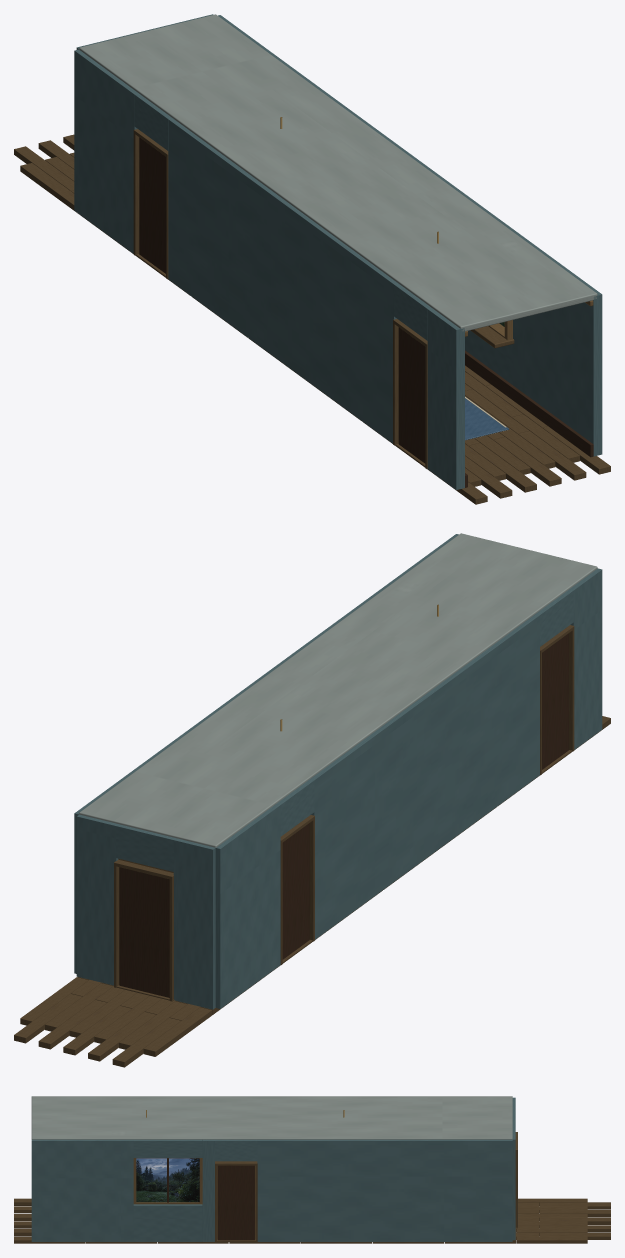
The model's file is hallway.glb.
3 views of the same model, one above another, from view 1: azimuth 30°, elevation 25°; view 2: azimuth 150°, elevation 25°; view 3: azimuth 270°, elevation 25° (orthographic). The views are drawn at different scales.
Visible parts, largest first — view 1: Corridor ceiling, Integrated corridor wall.002, Integrated corridor wall.005, Integrated corridor wall.004, Integrated corridor wall, Recessed unmarked door leaf, Recessed unmarked door leaf.002, Oak skirting between openings.003, Integrated corridor wall.007, Integrated corridor wall.003, Integrated corridor wall.001, Long woven corridor runner (+13 smaller); view 2: Corridor ceiling, Integrated corridor wall.002, Integrated corridor wall.004, Far wall beside recessed doorway, Far wall beside recessed doorway.001, Recessed unmarked door leaf.003, Integrated corridor wall, Recessed unmarked door leaf.002, Recessed unmarked door leaf, Far wall above doorway, Integrated corridor wall.003, Integrated corridor wall.001 (+15 smaller); view 3: Integrated corridor wall.010, Corridor ceiling, Integrated corridor wall.005, Recessed unmarked door leaf.001, Rainy garden through hallway, Integrated corridor wall.007, Integrated corridor wall.008, Integrated corridor wall.006, Integrated corridor wall.009, Lengthwise oak floorboard.087, Far wall beside recessed doorway.001, Lengthwise oak floorboard.079 (+12 smaller).
Part boxes in pixels (x1,y1,x2,y2): Corridor ceiling: [79, 14, 597, 331]; Integrated corridor wall.002: [168, 118, 397, 443]; Integrated corridor wall.005: [512, 235, 602, 456]; Integrated corridor wall.004: [74, 49, 138, 253]; Integrated corridor wall: [427, 308, 464, 489]; Recessed unmarked door leaf: [398, 327, 425, 463]; Recessed unmarked door leaf.002: [139, 137, 165, 273]; Oak skirting between openings.003: [509, 385, 593, 457]; Integrated corridor wall.007: [465, 330, 512, 384]; Integrated corridor wall.003: [134, 93, 171, 150]; Integrated corridor wall.001: [394, 283, 431, 340]; Long woven corridor runner: [465, 398, 509, 440]; Corridor ceiling: [79, 533, 597, 847]; Integrated corridor wall.002: [310, 614, 539, 939]; Integrated corridor wall.004: [215, 804, 280, 1008]; Far wall beside recessed doorway: [173, 838, 215, 1009]; Far wall beside recessed doorway.001: [76, 814, 118, 985]; Recessed unmarked door leaf.003: [119, 867, 169, 997]; Integrated corridor wall: [569, 568, 602, 749]; Recessed unmarked door leaf.002: [282, 823, 309, 959]; Recessed unmarked door leaf: [542, 633, 568, 769]; Far wall above doorway: [116, 824, 175, 871]; Integrated corridor wall.003: [276, 779, 314, 836]; Integrated corridor wall.001: [536, 589, 573, 646]; Integrated corridor wall.010: [257, 1139, 512, 1241]; Corridor ceiling: [31, 1096, 512, 1139]; Integrated corridor wall.005: [31, 1139, 133, 1241]; Recessed unmarked door leaf.001: [217, 1165, 254, 1240]; Rainy garden through hallway: [136, 1158, 199, 1202]; Integrated corridor wall.007: [133, 1204, 202, 1241]; Integrated corridor wall.008: [202, 1139, 214, 1241]; Integrated corridor wall.006: [133, 1139, 202, 1157]; Integrated corridor wall.009: [215, 1139, 257, 1161]; Lengthwise oak floorboard.087: [516, 1236, 587, 1243]; Far wall beside recessed doorway.001: [512, 1127, 515, 1240]; Lengthwise oak floorboard.079: [539, 1232, 610, 1239].
Size of the model in its own units: 2.99 by 3.47 by 16.64.
31 materials, 29 textured.
